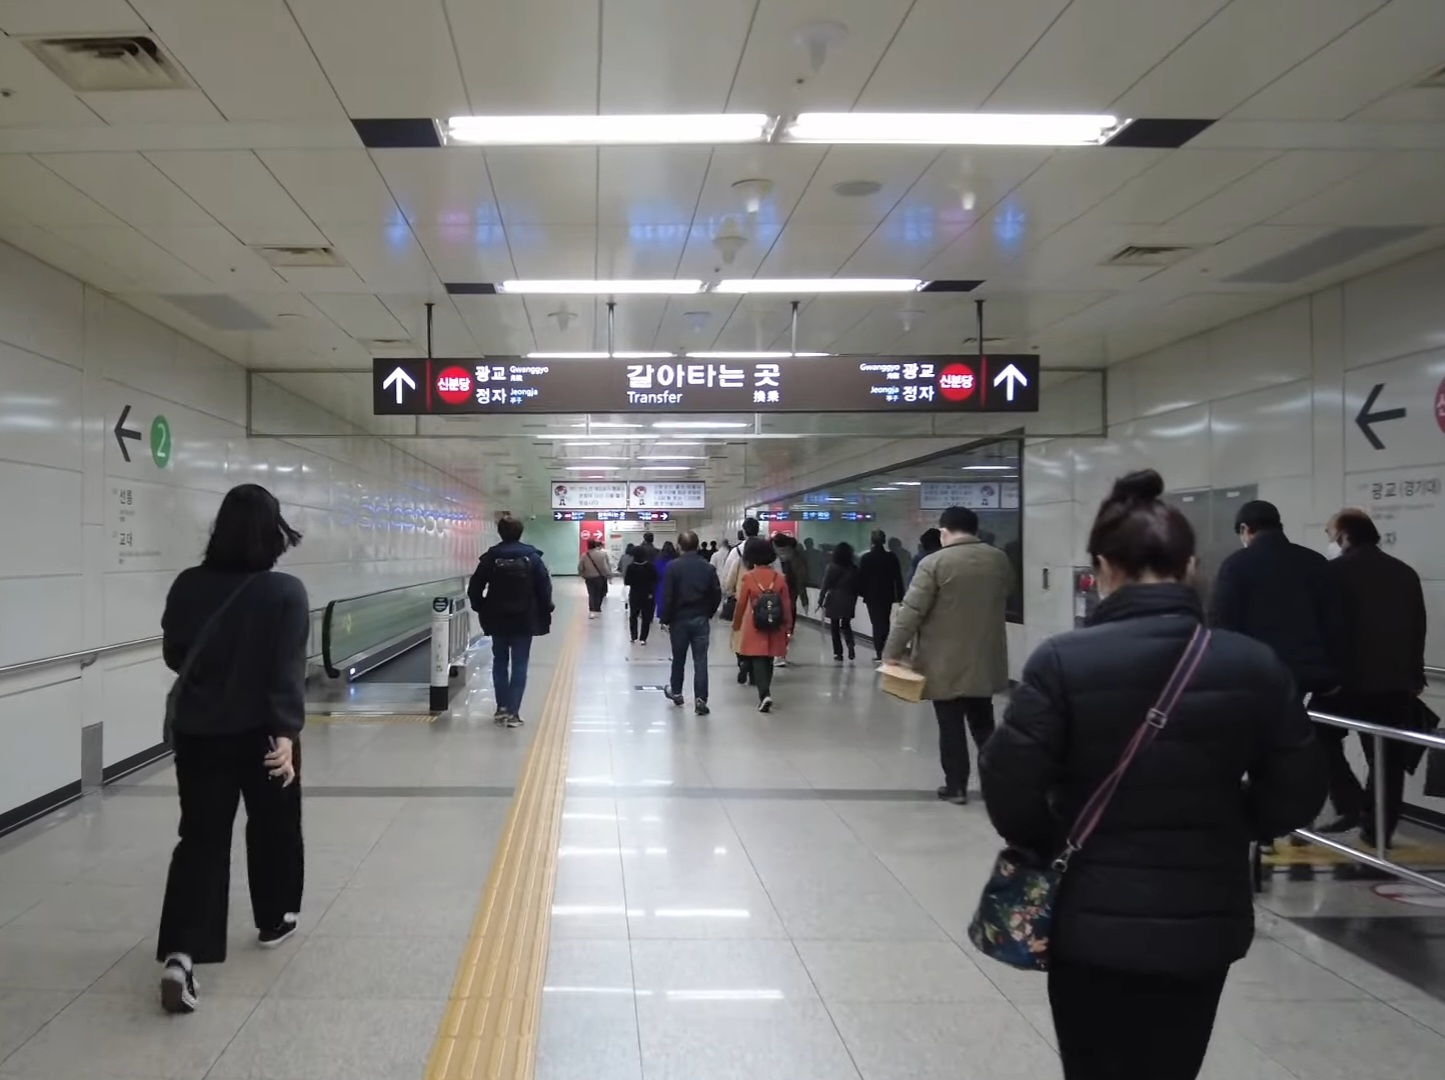signBoard: (369, 341, 1047, 423)
